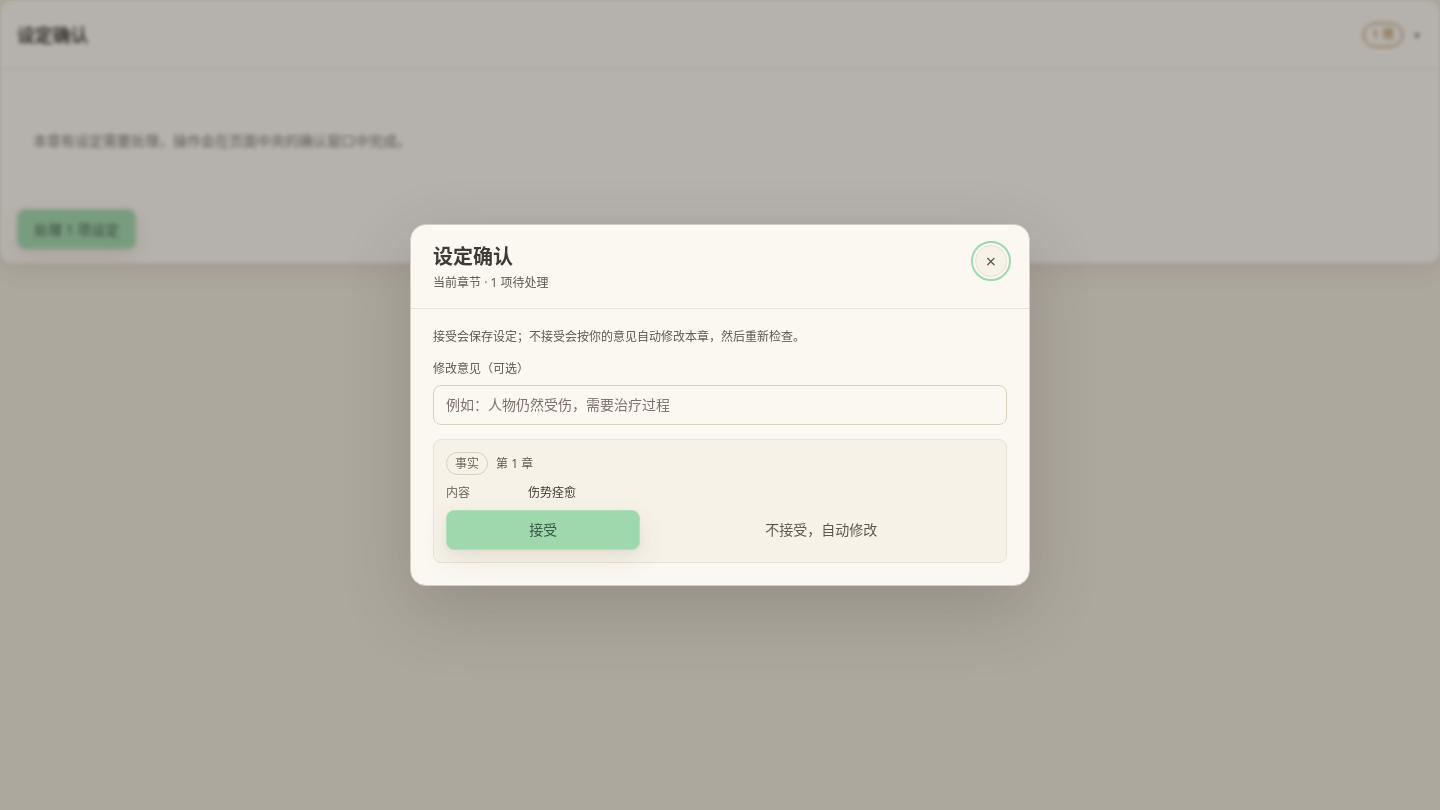
it: leaves the candidate pending when saving the rejection fails
The image size is (1440, 810).
Click the button "不接受，自动修改". click: (821, 530)
box: [648,510,994,550]
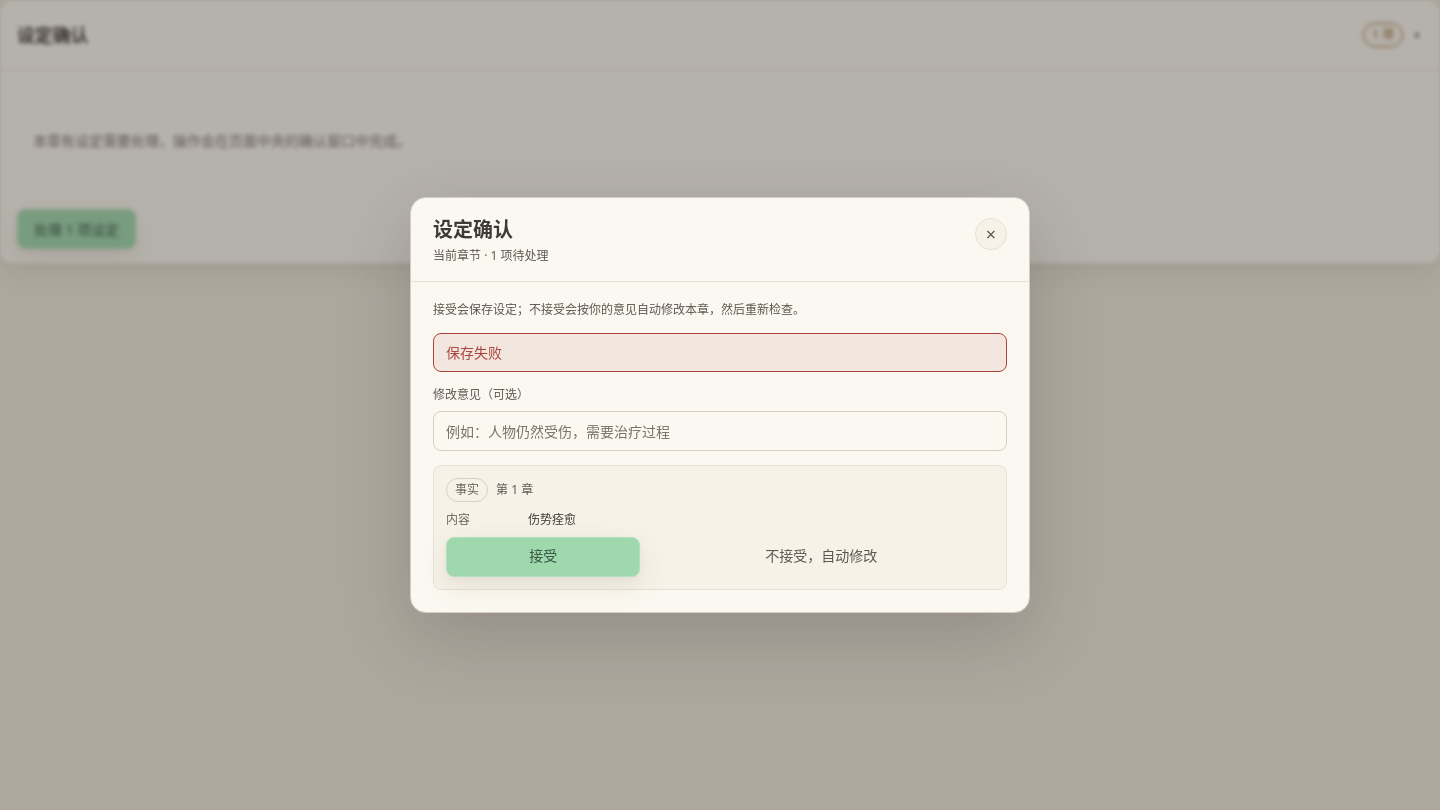
Expected: the text "保存失败" is shown, [433,333,1007,372]
